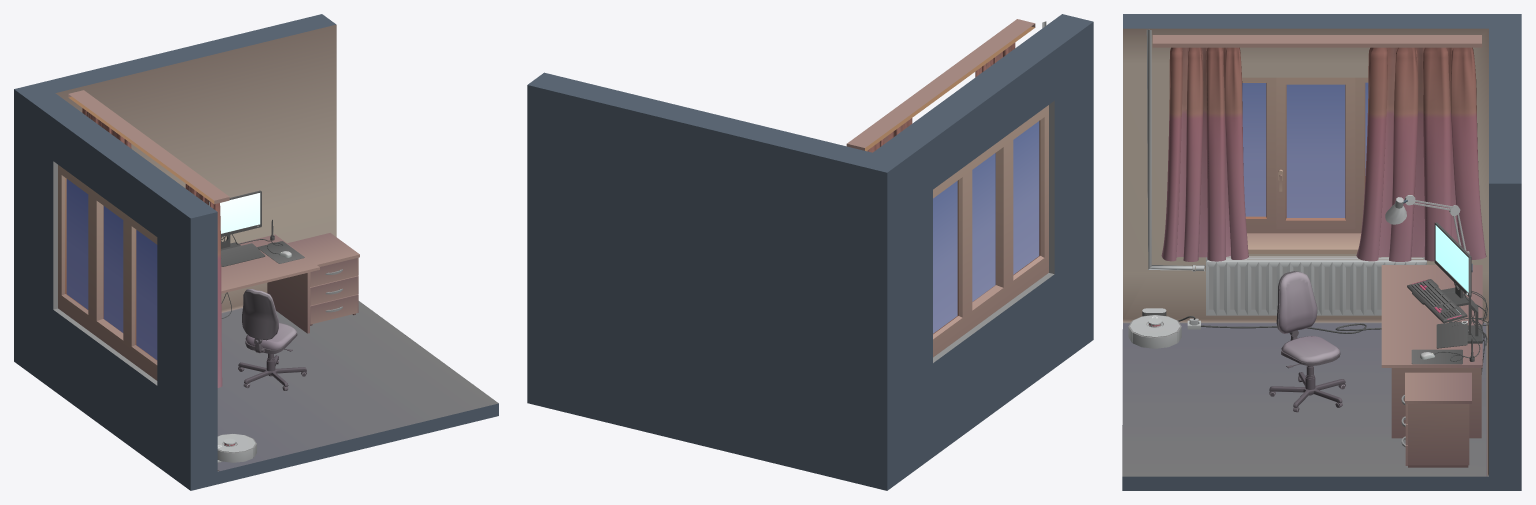
Rendered from room-optimized-transformed.glb.
The picture shows the model from 3 angles, left to right: view 1: azimuth 30°, elevation 25°; view 2: azimuth 150°, elevation 25°; view 3: azimuth 270°, elevation 25°; orthographic projection. The views are drawn at different scales.
Parts seen in each view (by area): view 1: body1_blinn1_0; view 2: body1_blinn1_0; view 3: body1_blinn1_0.
Part boxes in pixels (x1,y1,x2,y2): body1_blinn1_0: (14, 14, 498, 490); body1_blinn1_0: (527, 14, 1093, 490); body1_blinn1_0: (1122, 14, 1521, 490).
Bounding box in the file's own units: 25.71 × 21.79 × 25.58.
